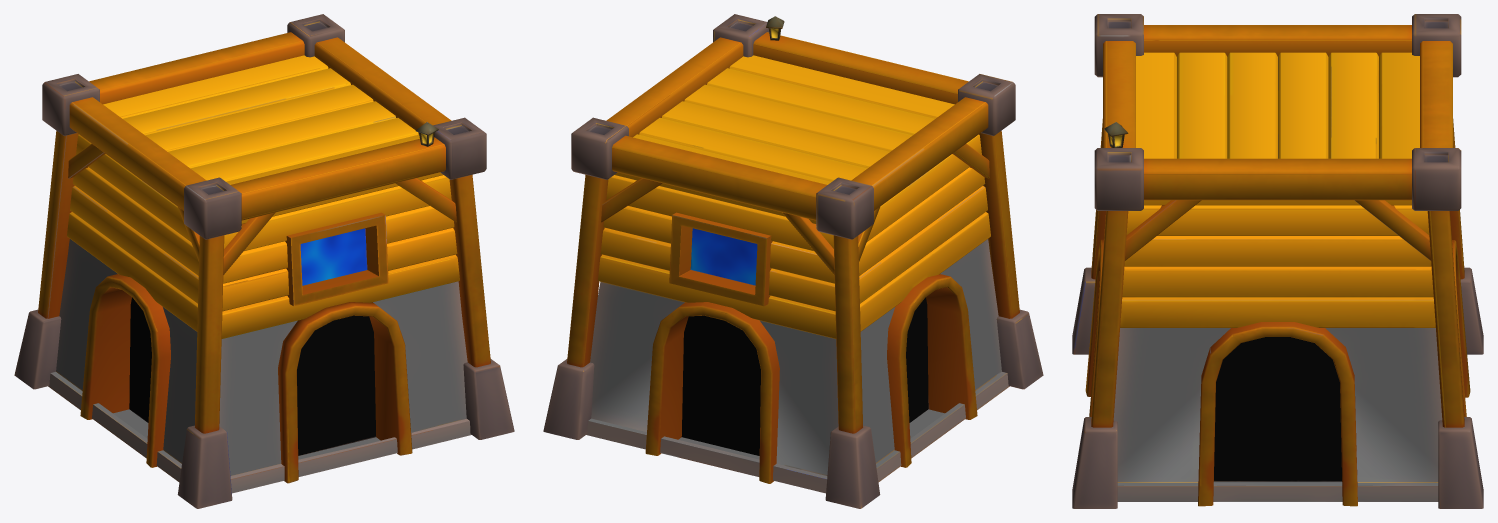
3 renders of one model, left to right at view 1: azimuth 30°, elevation 25°; view 2: azimuth 150°, elevation 25°; view 3: azimuth 270°, elevation 25°, orthographic. The views are drawn at different scales.
Visible parts, largest first — view 1: Cube.001_Baked; view 2: Cube.001_Baked; view 3: Cube.001_Baked.
Part boxes in pixels (box(x1,y1,x2,y2)): Cube.001_Baked: box(14, 14, 514, 508); Cube.001_Baked: box(543, 14, 1043, 508); Cube.001_Baked: box(1072, 14, 1483, 508).
Bounding box in the file's own units: 300 × 284 × 300.
1 material, 1 textured.
